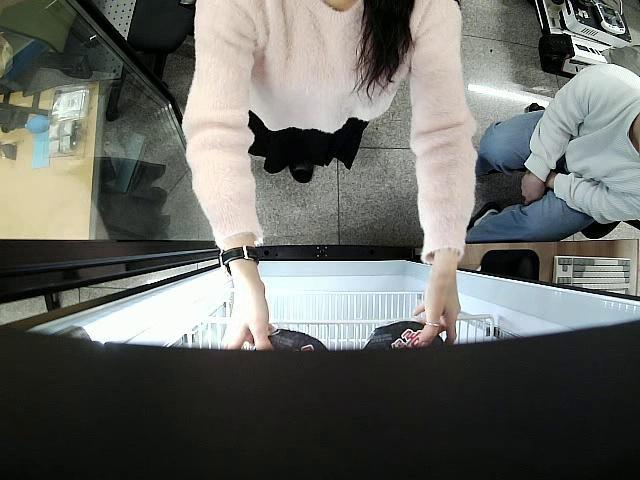07_buldak_L: (364, 316, 448, 350), (244, 328, 336, 354)
